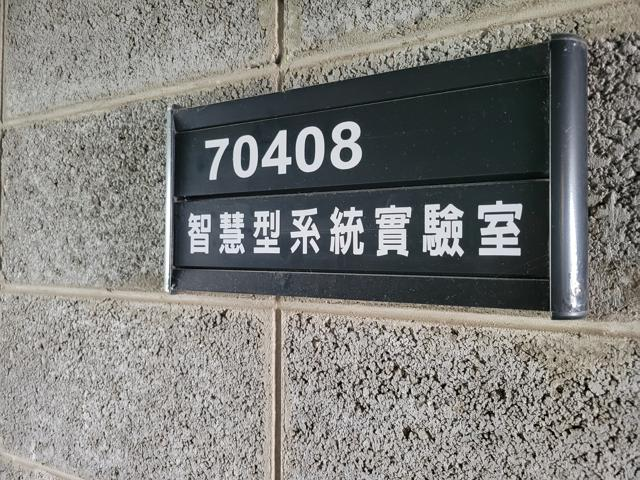doorplate: (151, 24, 601, 328)
